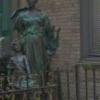Statue: (12, 5, 62, 83)
